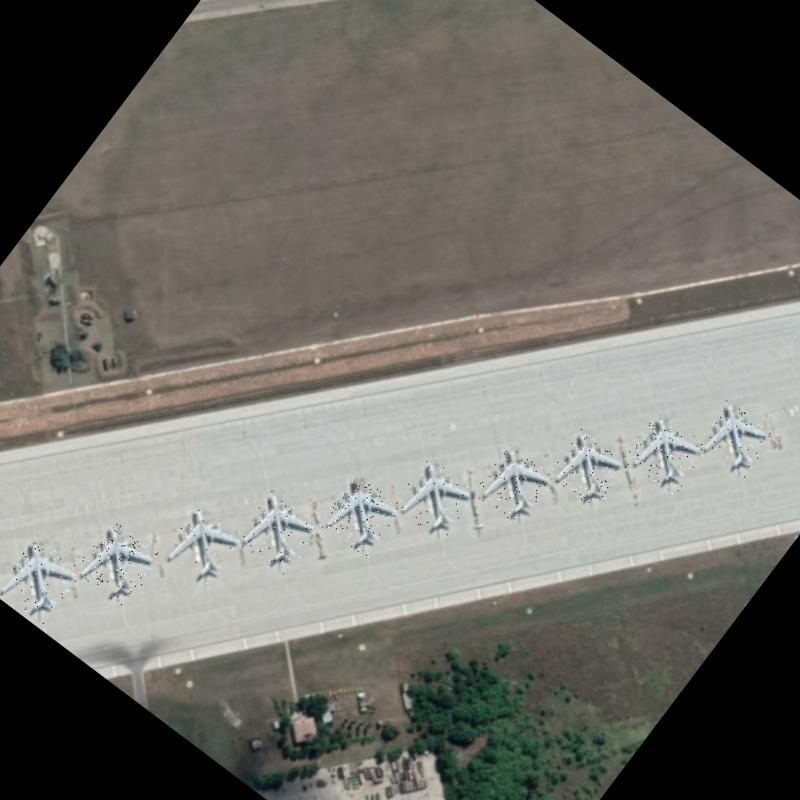A17: (73, 519, 163, 610), (390, 454, 480, 544), (233, 489, 323, 579), (0, 535, 84, 628), (318, 473, 406, 560), (159, 504, 246, 591), (692, 396, 778, 482), (472, 442, 556, 528), (546, 428, 630, 512), (623, 414, 708, 496)
